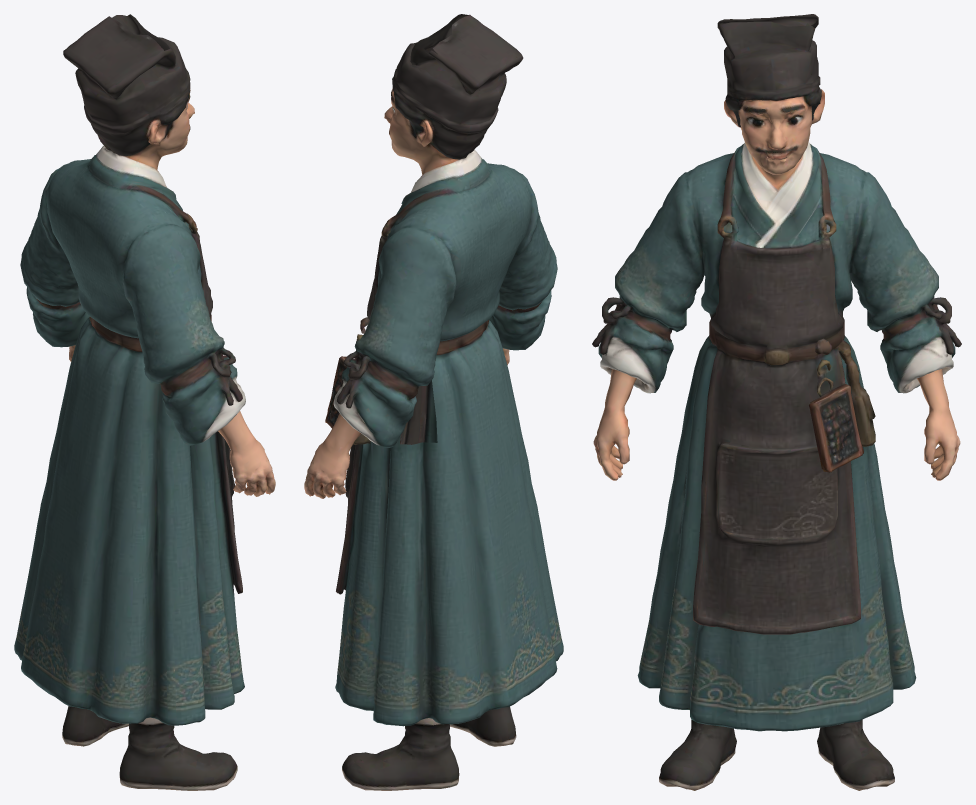
The model's file is seller.glb.
3 views of the same model, side by side, from view 1: azimuth 30°, elevation 25°; view 2: azimuth 150°, elevation 25°; view 3: azimuth 270°, elevation 25° (orthographic). The views are drawn at different scales.
Visible parts, largest first — view 1: tripo_node_d748b52a-09dd-4d20-a72a-af6f3054c701; view 2: tripo_node_d748b52a-09dd-4d20-a72a-af6f3054c701; view 3: tripo_node_d748b52a-09dd-4d20-a72a-af6f3054c701.
Part boxes in pixels (<box>): tripo_node_d748b52a-09dd-4d20-a72a-af6f3054c701: <box>14,14,275,790</box>; tripo_node_d748b52a-09dd-4d20-a72a-af6f3054c701: <box>304,14,563,790</box>; tripo_node_d748b52a-09dd-4d20-a72a-af6f3054c701: <box>592,14,961,790</box>.
Size of the model in its own units: 0.2642 by 0.9941 by 0.4442.
Materials: 1 (1 with a texture image).
